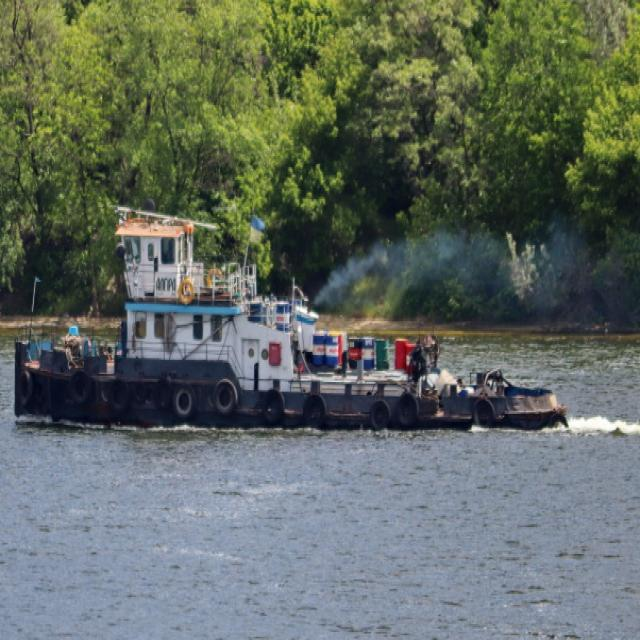tugboat: (10, 202, 575, 453)
